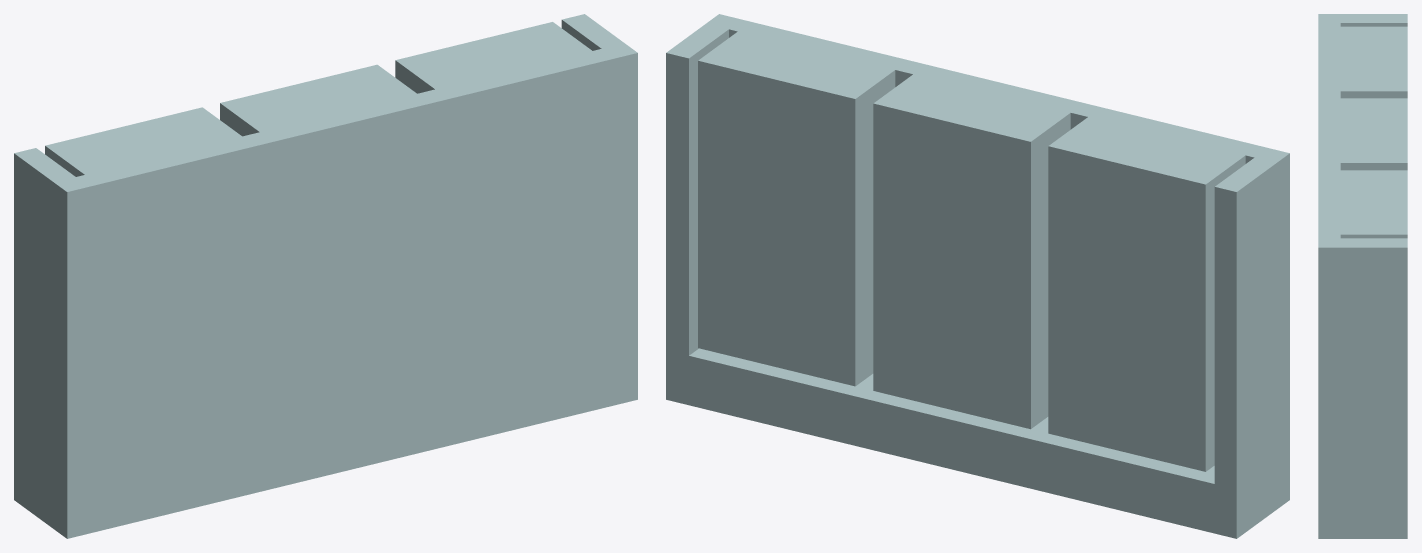
Rendered from Smooth Krunk (1).glb.
3 renders of one model, left to right at view 1: azimuth 30°, elevation 25°; view 2: azimuth 150°, elevation 25°; view 3: azimuth 270°, elevation 25°, orthographic. The views are drawn at different scales.
Visible parts, largest first — view 1: Mesh_Mesh_head_geo.001_lambert2SG.001; view 2: Mesh_Mesh_head_geo.001_lambert2SG.001; view 3: Mesh_Mesh_head_geo.001_lambert2SG.001.
Boxes of the visible parts, box(x1,y1,x2,y2) form: Mesh_Mesh_head_geo.001_lambert2SG.001: box(14, 14, 637, 538); Mesh_Mesh_head_geo.001_lambert2SG.001: box(666, 14, 1289, 538); Mesh_Mesh_head_geo.001_lambert2SG.001: box(1318, 14, 1407, 538).
Bounding box in the file's own units: 0.124 × 0.072 × 0.02.
